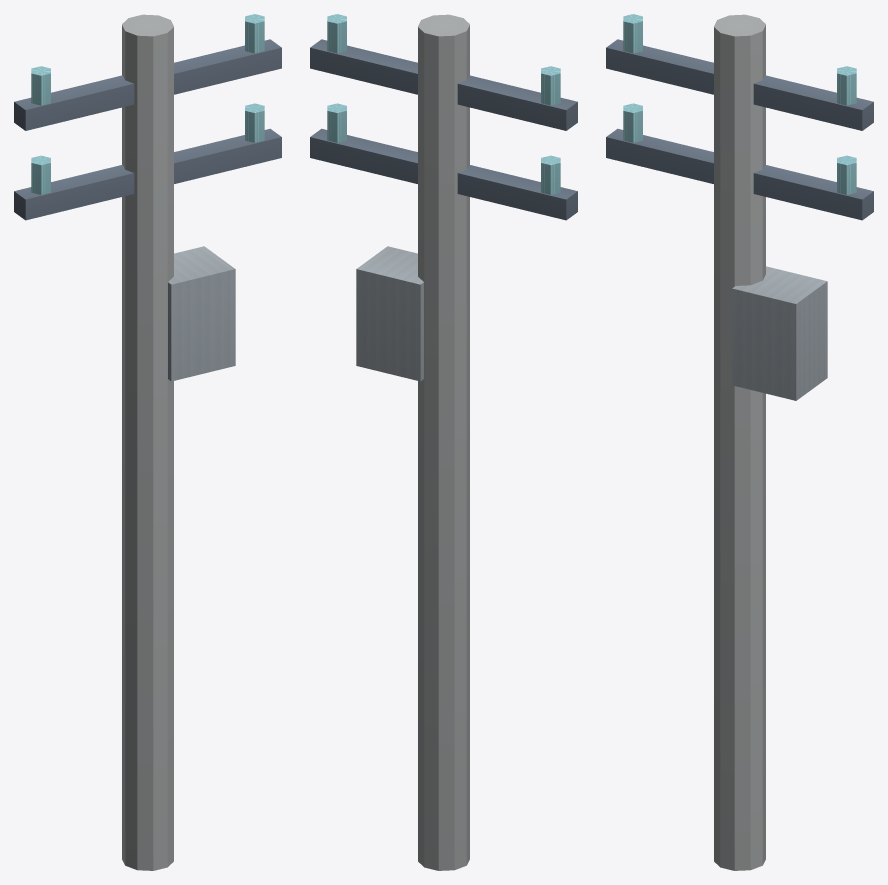
Rendered from cable_bundle.glb.
3 renders of one model, left to right at view 1: azimuth 30°, elevation 25°; view 2: azimuth 150°, elevation 25°; view 3: azimuth 330°, elevation 25°, orthographic.
Visible parts, largest first — view 1: cable_bundle; view 2: cable_bundle; view 3: cable_bundle.
Boxes of the visible parts, box(x1,y1,x2,y2) form: cable_bundle: box(14, 14, 281, 870); cable_bundle: box(310, 14, 577, 870); cable_bundle: box(606, 14, 873, 870).
Bounding box in the file's own units: 1.8 × 5.6 × 0.38.
1 material, 1 textured.
